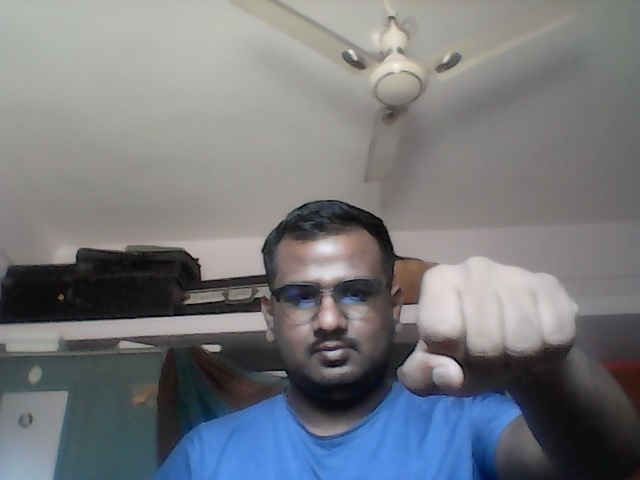Yes: (393, 251, 582, 392)
